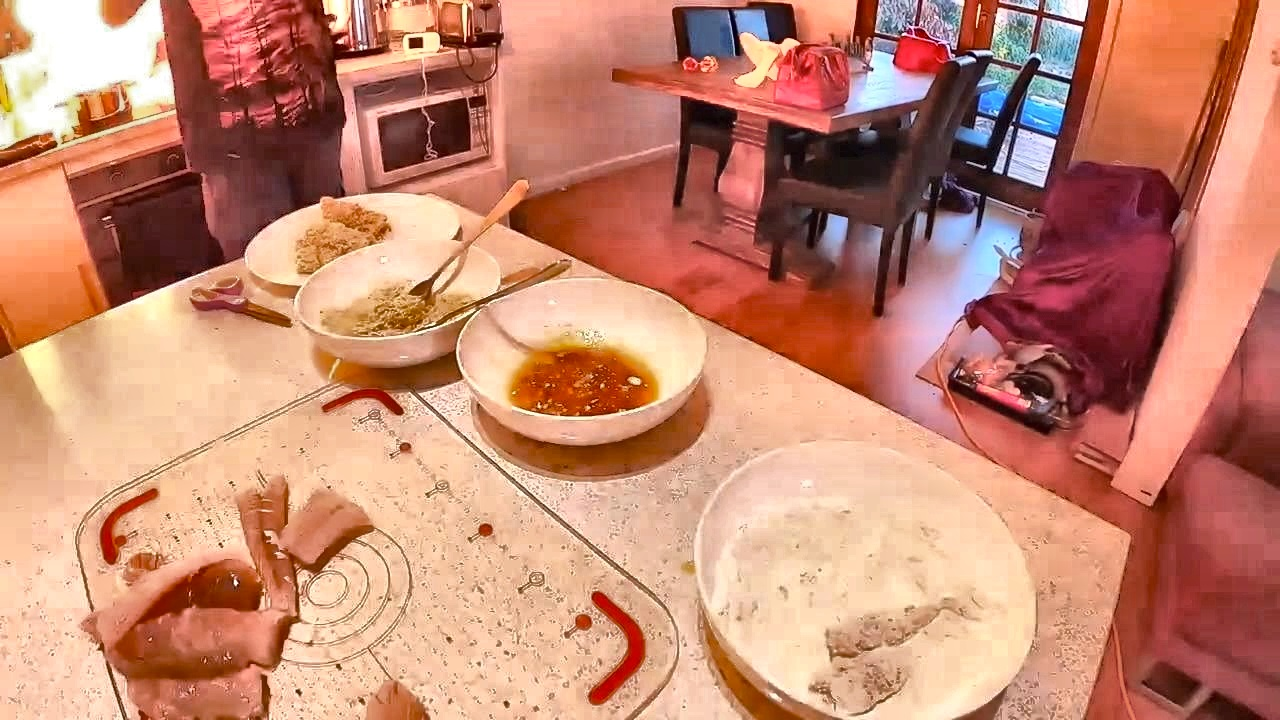fire: (8, 3, 177, 144)
